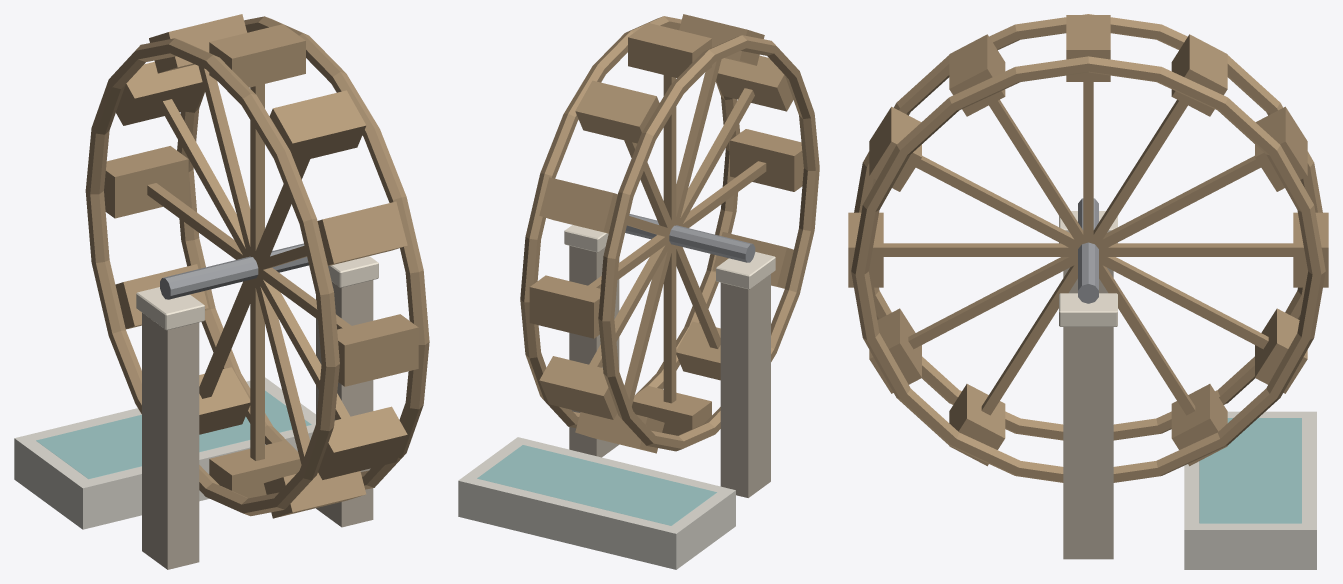
Rendered from roman-bathhouse-and-palaestra-water-lifting-wheel-67002f5a__37888.glb.
3 renders of one model, left to right at view 1: azimuth 30°, elevation 25°; view 2: azimuth 150°, elevation 25°; view 3: azimuth 270°, elevation 25°, orthographic. The views are drawn at different scales.
Parts seen in each view (by area): view 1: wheel-drum/timber, water-lifting-wheel, wheel-drum/lead; view 2: wheel-drum/timber, water-lifting-wheel, wheel-drum/lead; view 3: wheel-drum/timber, water-lifting-wheel, wheel-drum/lead.
Part boxes in pixels (<box>): wheel-drum/timber: <box>85,14,429,518</box>; water-lifting-wheel: <box>14,256,378,569</box>; wheel-drum/lead: <box>160,243,308,299</box>; wheel-drum/timber: <box>520,14,819,453</box>; water-lifting-wheel: <box>458,225,775,569</box>; wheel-drum/lead: <box>625,214,755,262</box>; wheel-drum/timber: <box>848,14,1328,482</box>; water-lifting-wheel: <box>1059,211,1316,569</box>; wheel-drum/lead: <box>1078,198,1098,303</box>.
Size of the model in its own units: 1.9 by 3.58 by 3.26.
